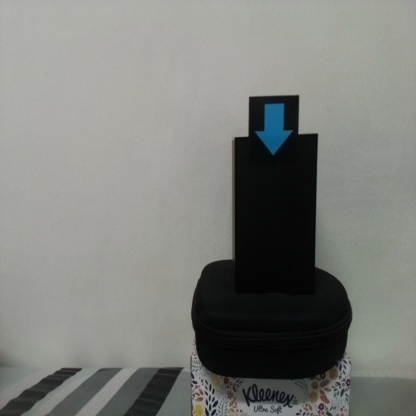id_2: (248, 97, 299, 163)
